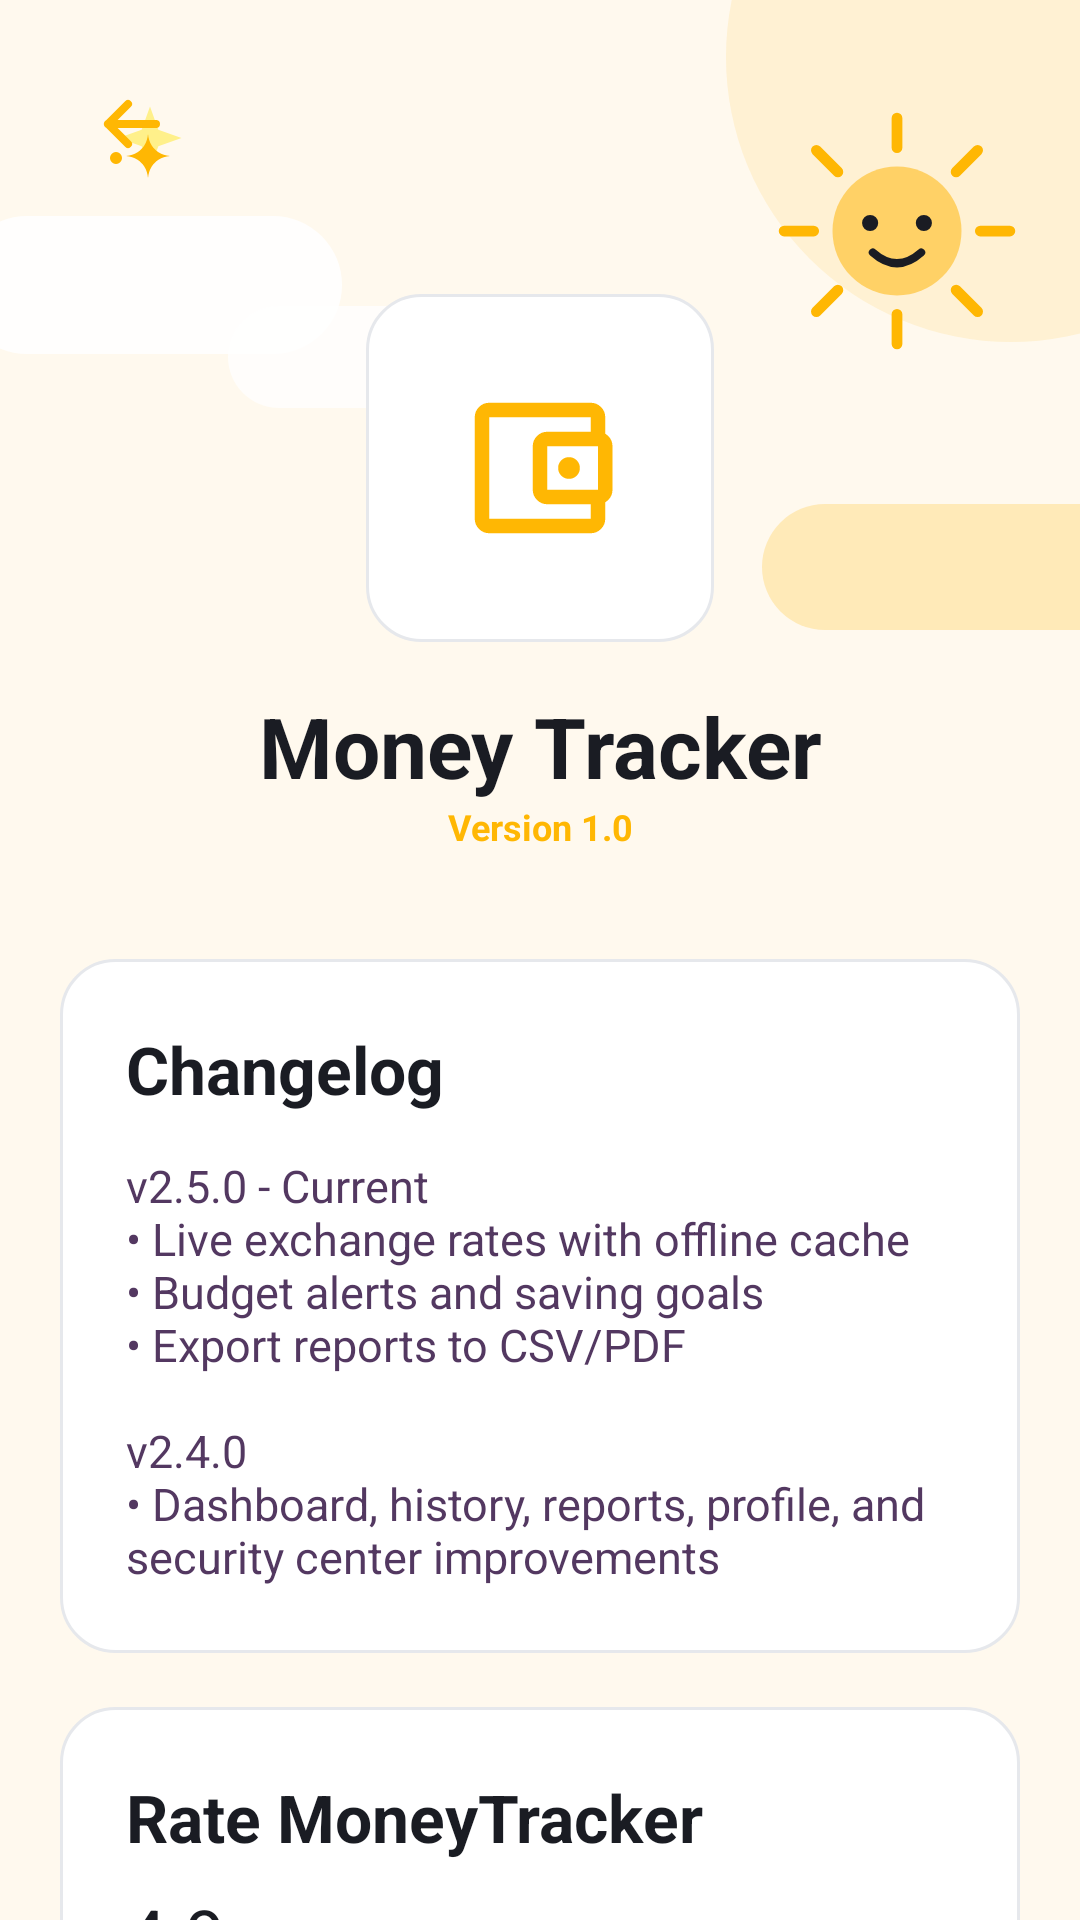

Named icons in this screenshot (1080x1920) and their bounding boxes, (x1, y1, x2, y2):
wallet: (474, 402, 613, 534)
